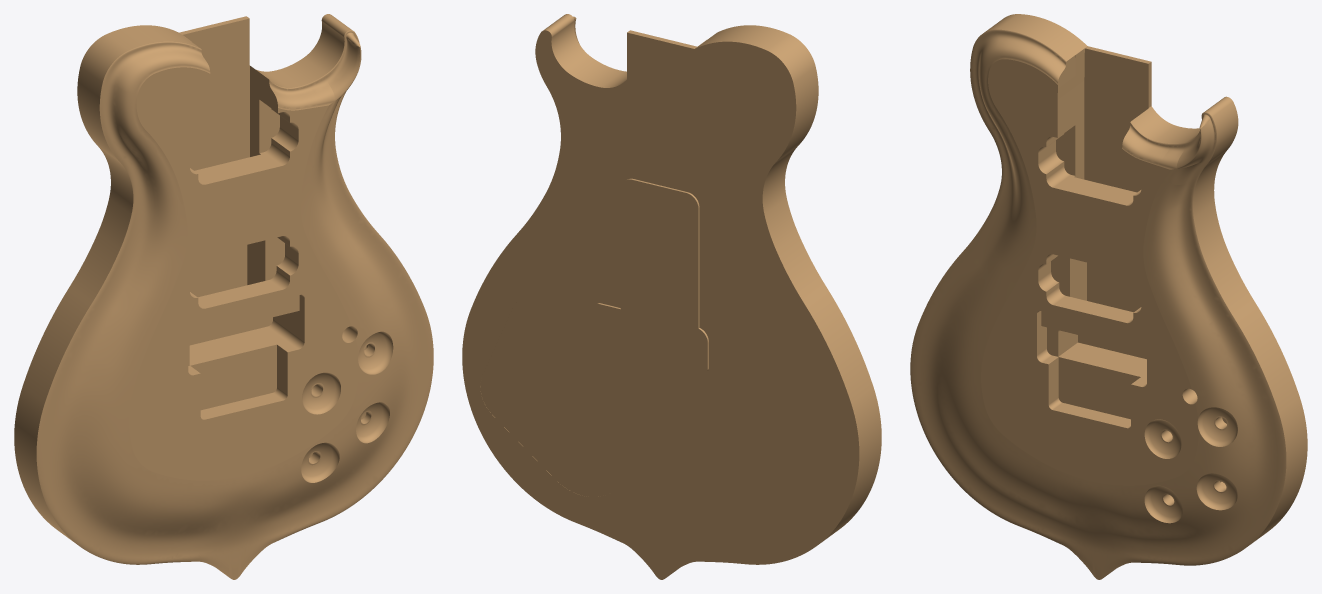
Rendered from oryx_tremolo.glb.
The picture shows the model from 3 angles, left to right: view 1: azimuth 30°, elevation 25°; view 2: azimuth 150°, elevation 25°; view 3: azimuth 330°, elevation 25°; orthographic projection. The views are drawn at different scales.
Visible parts, largest first — view 1: oryx_tremolo; view 2: oryx_tremolo; view 3: oryx_tremolo.
Part boxes in pixels (x1=…): oryx_tremolo: x1=14, y1=14, x2=433, y2=579; oryx_tremolo: x1=462, y1=14, x2=881, y2=579; oryx_tremolo: x1=910, y1=14, x2=1307, y2=579.
Bounding box in the file's own units: 0.3251 × 0.4357 × 0.0462.
